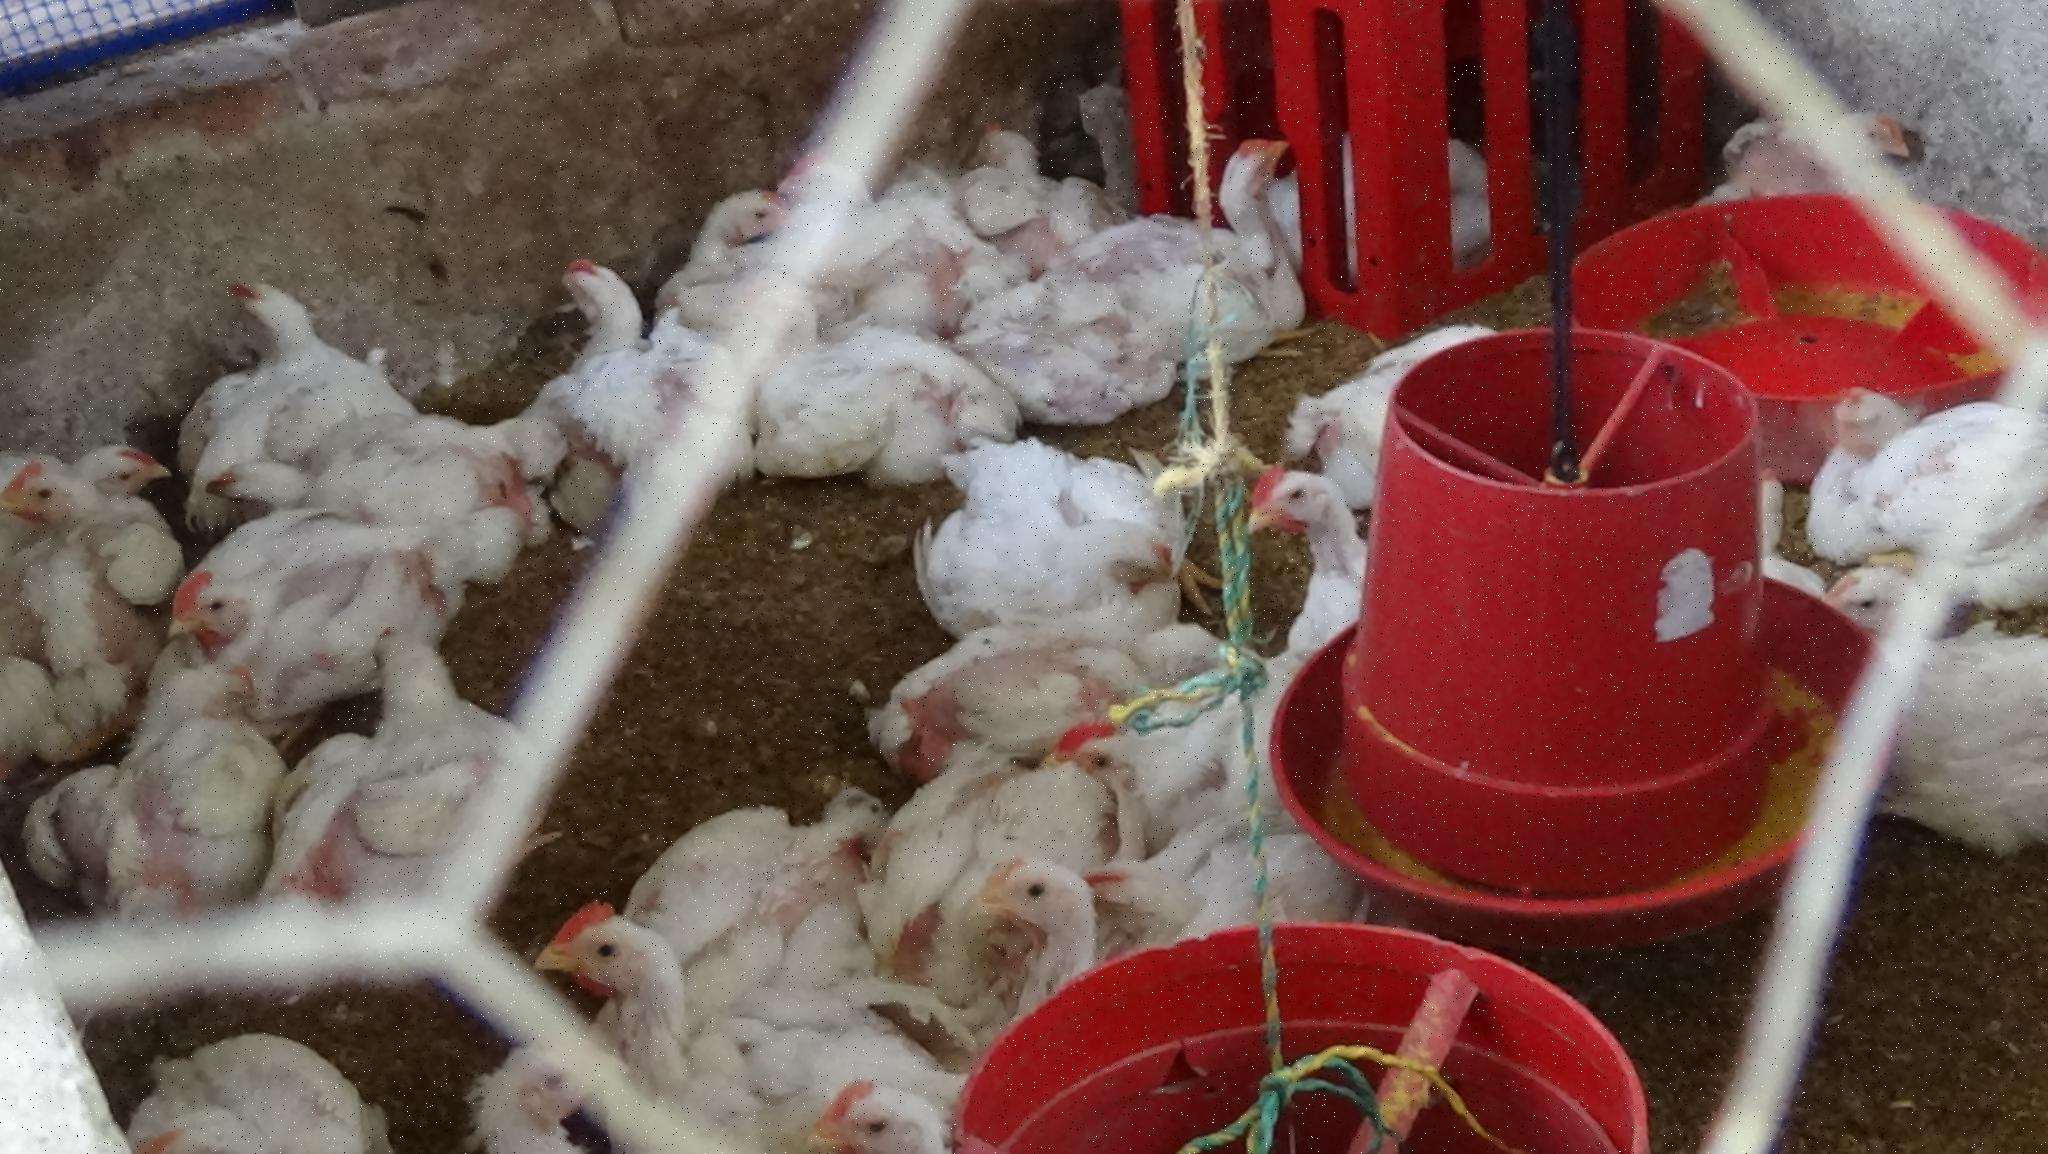Pollos: (294, 592, 537, 934), (904, 405, 1194, 640), (31, 692, 284, 925), (1829, 560, 2047, 818), (1807, 329, 2048, 538), (73, 1027, 411, 1154), (769, 276, 973, 478), (489, 889, 729, 1055), (1131, 131, 1287, 369), (1231, 442, 1431, 626), (1284, 326, 1508, 487), (183, 267, 399, 431), (949, 843, 1137, 1003), (536, 255, 710, 424), (146, 556, 360, 685), (1734, 106, 1979, 205), (429, 412, 558, 562), (679, 158, 840, 266), (805, 1046, 948, 1154), (1047, 699, 1190, 806), (942, 113, 1039, 248), (1, 435, 93, 564), (89, 412, 172, 514)
